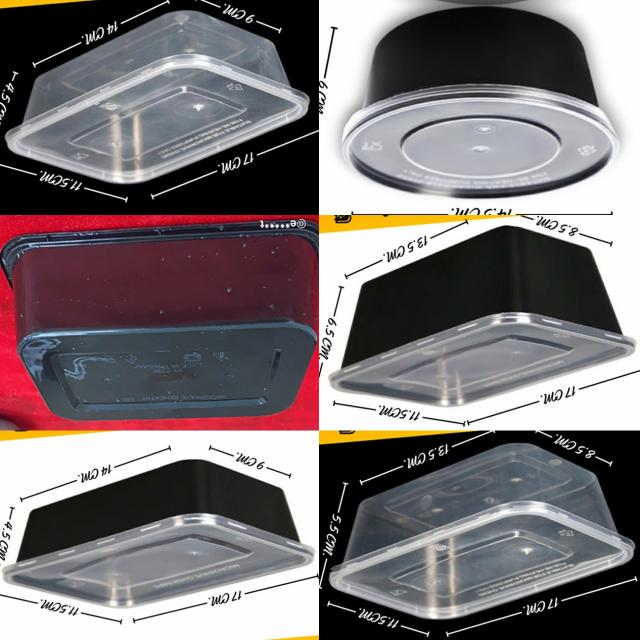plastik: (1, 220, 317, 419), (329, 227, 635, 406), (330, 443, 635, 620), (6, 11, 310, 184), (342, 8, 618, 198), (3, 461, 314, 608)
